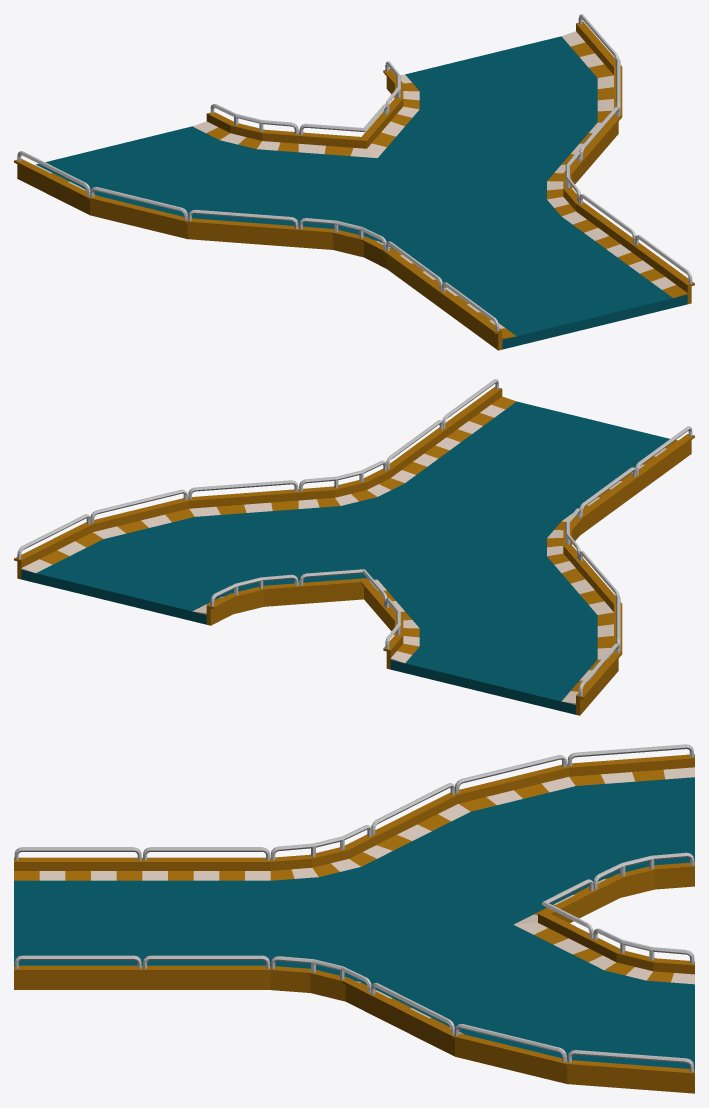
Rendered from split_2-1.FBX.
The picture shows the model from 3 angles, top to bottom: view 1: azimuth 30°, elevation 25°; view 2: azimuth 150°, elevation 25°; view 3: azimuth 270°, elevation 25°; orthographic projection. The views are drawn at different scales.
Visible parts, largest first — view 1: split_2-1, wall_r, wall_l, curbs_l, wall_c, curbs_c, curbs_r; view 2: split_2-1, wall_l, wall_r, wall_c, curbs_l, curbs_r, curbs_c; view 3: split_2-1, wall_l, wall_r, curbs_r, wall_c, curbs_c.
Part boxes in pixels (x1,y1,x2,y2): split_2-1: [36, 36, 687, 349]; wall_r: [14, 151, 502, 350]; wall_l: [563, 14, 694, 304]; curbs_l: [547, 31, 687, 297]; wall_c: [206, 61, 403, 148]; curbs_c: [192, 74, 419, 158]; curbs_r: [34, 164, 516, 339]; split_2-1: [21, 401, 669, 714]; wall_l: [14, 379, 502, 579]; wall_r: [563, 426, 694, 715]; wall_c: [206, 569, 403, 669]; curbs_l: [21, 396, 516, 573]; curbs_r: [547, 440, 677, 704]; curbs_c: [192, 579, 419, 663]; split_2-1: [14, 777, 694, 1069]; wall_l: [14, 955, 694, 1093]; wall_r: [14, 744, 694, 870]; curbs_r: [14, 767, 694, 880]; wall_c: [538, 852, 694, 974]; curbs_c: [513, 877, 694, 984].
Size of what is drawn, in the model's own units: 589 by 29.31 by 531.
